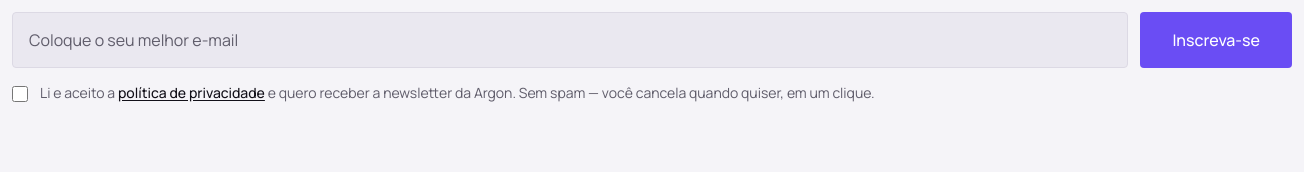
Test case: NewsletterForm › requires the consent checkbox
The image size is (1304, 172).
Type "ana@example.com" into the field named "Seu e-mail" at (570, 40), box [12,12,1128,68]
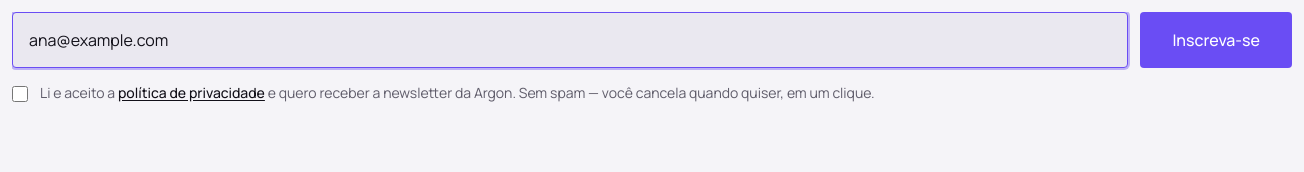
Click the button "Inscreva-se" at (1216, 40), box [1140,12,1292,68]
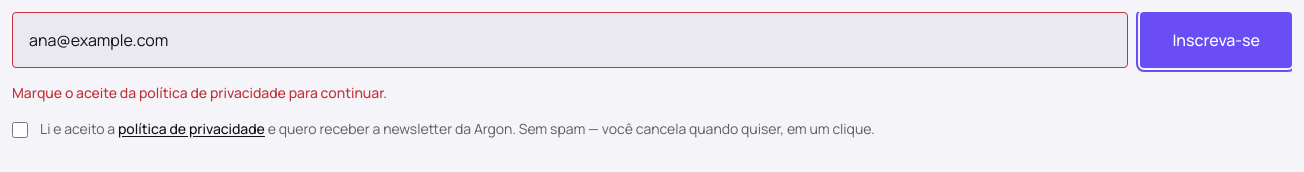
Expected: the message reads "Marque o aceite da política de privacidade para continuar.", [12,84,387,103]
